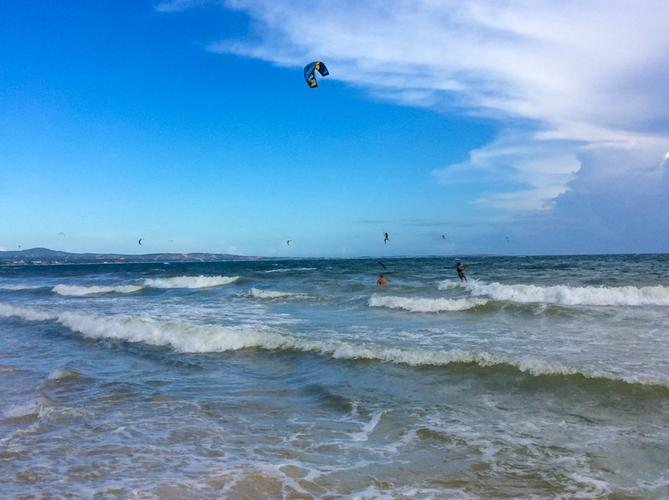sea_river: (46, 293, 630, 480)
sky_cloud: (0, 39, 669, 232)
